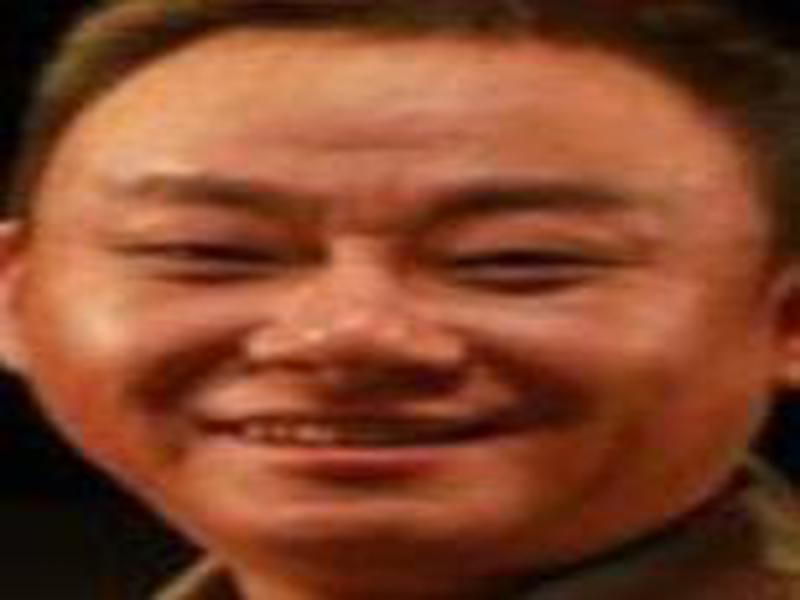without_mask: (34, 136, 765, 597)
